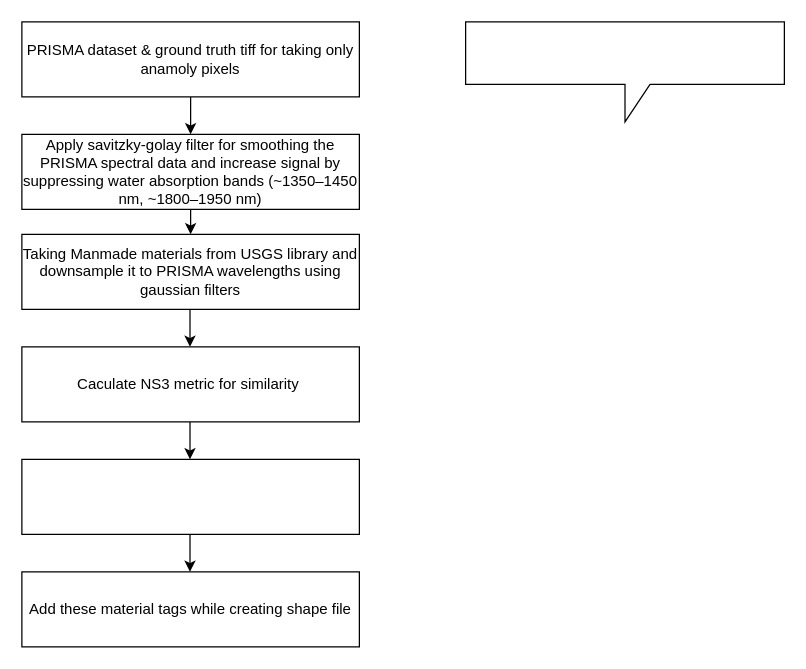
Image size: 806x669. Some labels were removed from this diagram. Here are the shapes that lost their labels. From the top down, the centre of each, then its label:
point 624,71: find out better algorithms for library search in determining top scores
point 190,496: Rank top 3 score or with cut-off of B < 0.1–0.15
